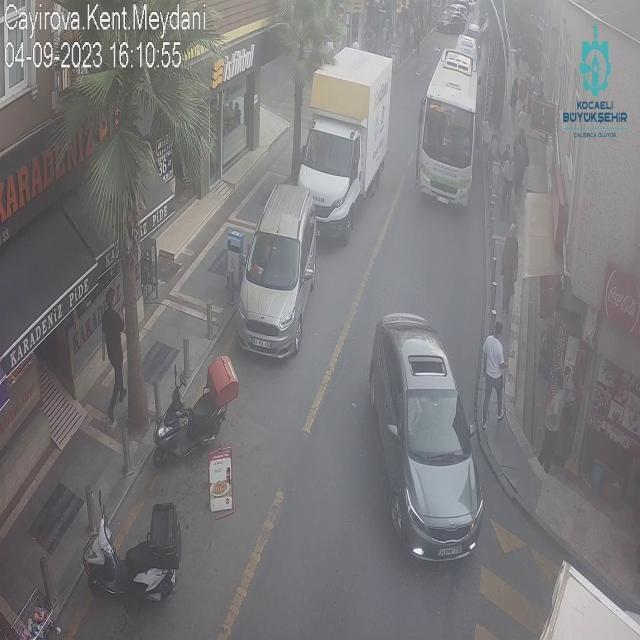Bus: (413, 47, 482, 206)
Car: (366, 308, 486, 566), (437, 14, 464, 36)
Cycle: (80, 490, 182, 604), (147, 353, 239, 467)
Truck: (283, 46, 392, 244)
Van: (236, 184, 316, 362)
